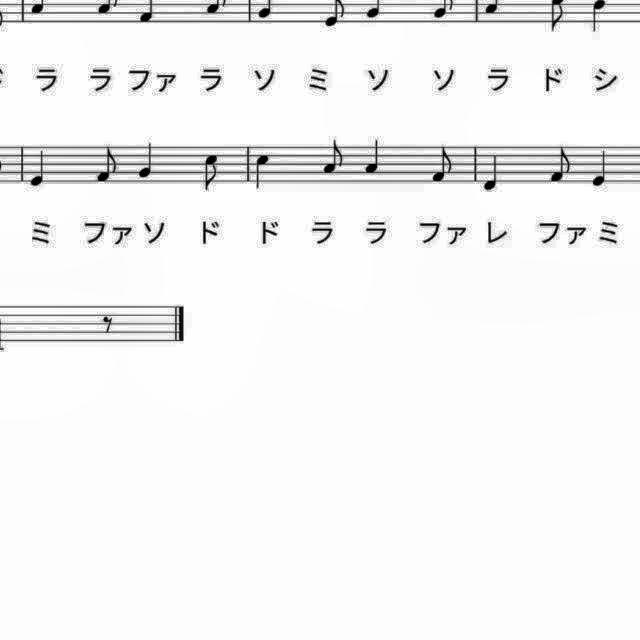Eighth-note: (90, 143, 122, 190), (316, 136, 348, 180), (546, 142, 576, 188), (426, 142, 456, 188), (198, 151, 226, 197)
Eighth-rest: (95, 306, 116, 336)
Quarter-note: (480, 150, 508, 196), (26, 145, 52, 191), (589, 145, 615, 191), (359, 134, 386, 178), (135, 140, 161, 184), (250, 150, 276, 194)
